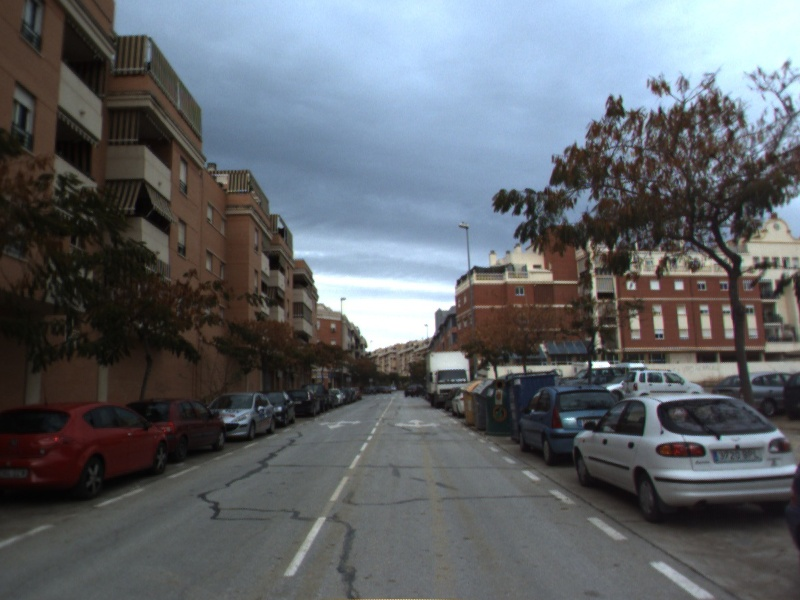STRAIGHT_LEFT_RIGHT: (392, 417, 443, 430)
